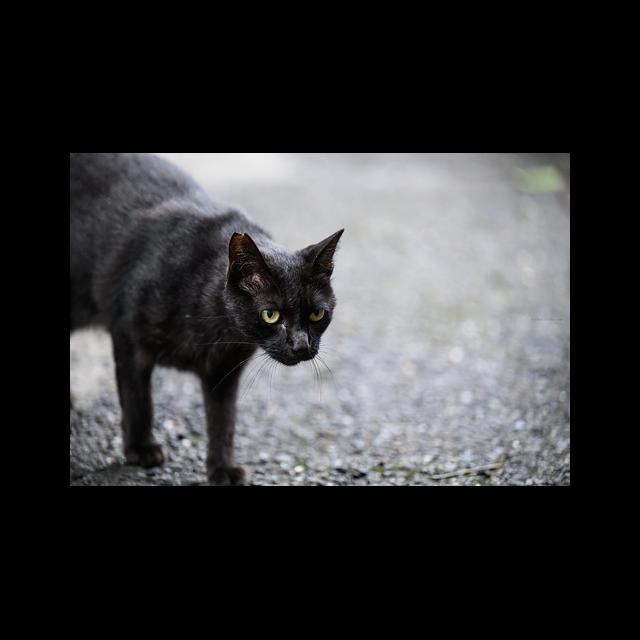animals: (70, 154, 346, 486)
